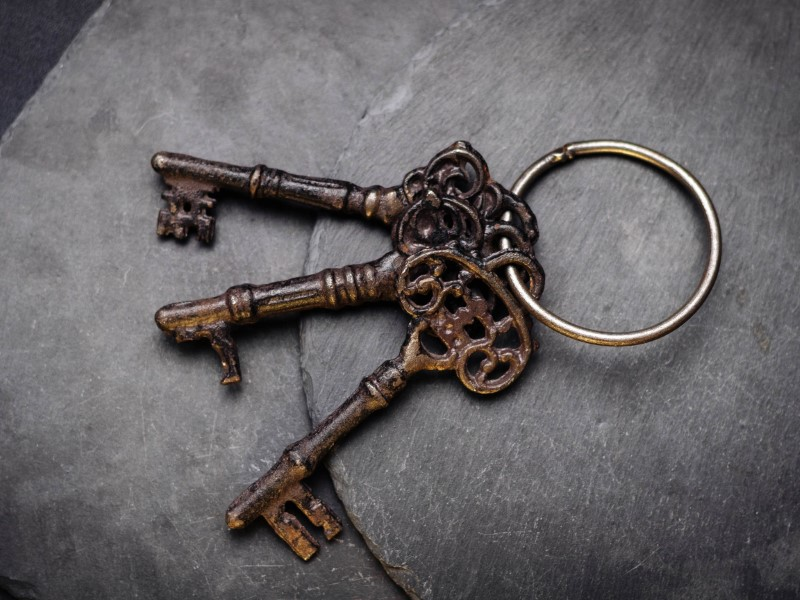key: (145, 139, 546, 565)
